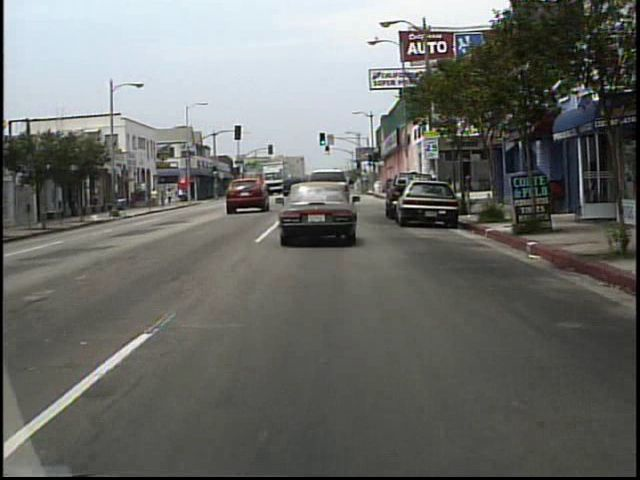person: (152, 187, 160, 209), (167, 187, 175, 206), (161, 188, 166, 207)
